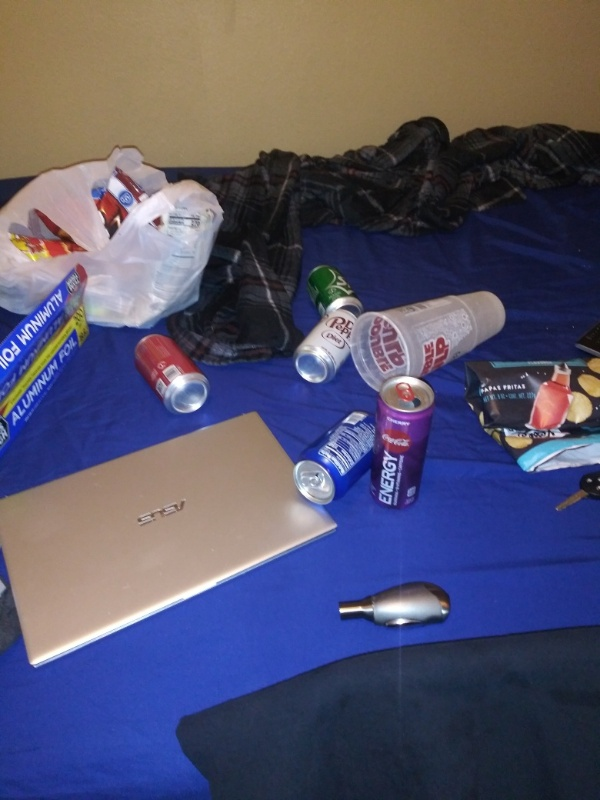can: (370, 373, 437, 511), (291, 408, 380, 508), (126, 332, 214, 417), (290, 308, 365, 391), (304, 262, 372, 322)
